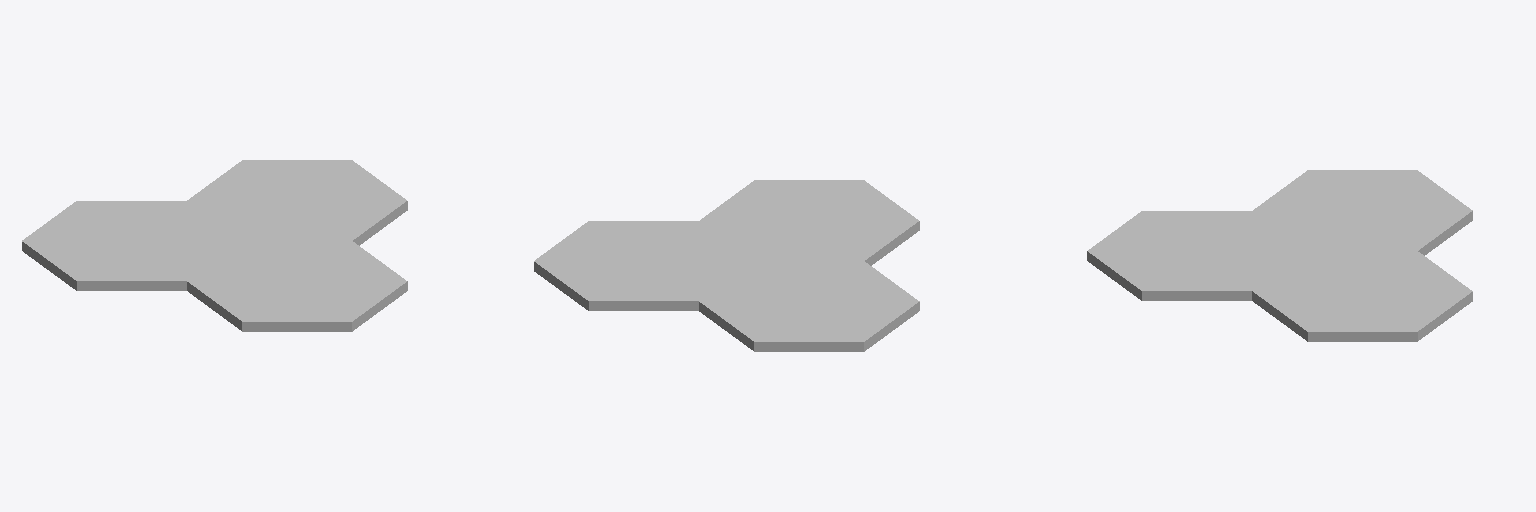
File: three-hexes-short-collision.obj
3 renders of one model, left to right at view 1: azimuth 30°, elevation 25°; view 2: azimuth 150°, elevation 25°; view 3: azimuth 270°, elevation 25°, orthographic.
Parts seen in each view (by area): view 1: Cylinder, Cylinder.002, Cylinder.001; view 2: Cylinder.002, Cylinder.001, Cylinder; view 3: Cylinder.001, Cylinder, Cylinder.002.
Part boxes in pixels (bbox=[...]): Cylinder: bbox=[187, 241, 407, 331]; Cylinder.002: bbox=[22, 201, 241, 290]; Cylinder.001: bbox=[187, 160, 407, 245]; Cylinder.002: bbox=[699, 261, 919, 351]; Cylinder.001: bbox=[534, 221, 753, 310]; Cylinder: bbox=[700, 180, 919, 265]; Cylinder.001: bbox=[1252, 251, 1472, 341]; Cylinder: bbox=[1087, 211, 1306, 300]; Cylinder.002: bbox=[1253, 170, 1472, 255].
Size of the model in its own units: 3.46 by 0.0991 by 3.5.